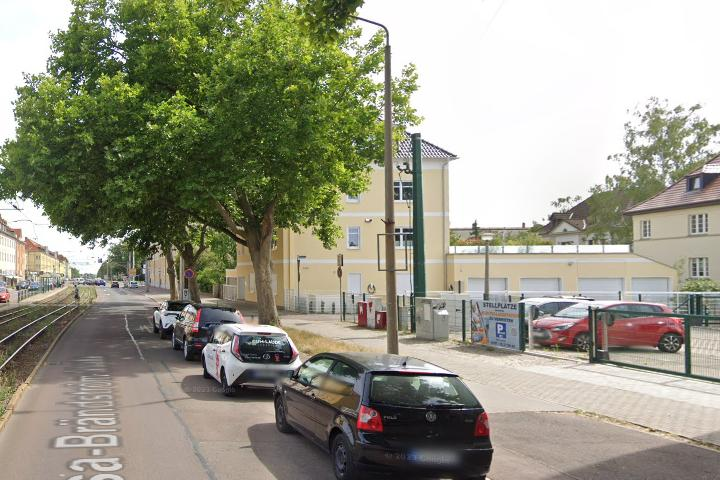traffic_sign: (183, 269, 195, 280)
vehicle: (270, 348, 497, 480), (527, 298, 686, 356), (199, 321, 305, 400)
